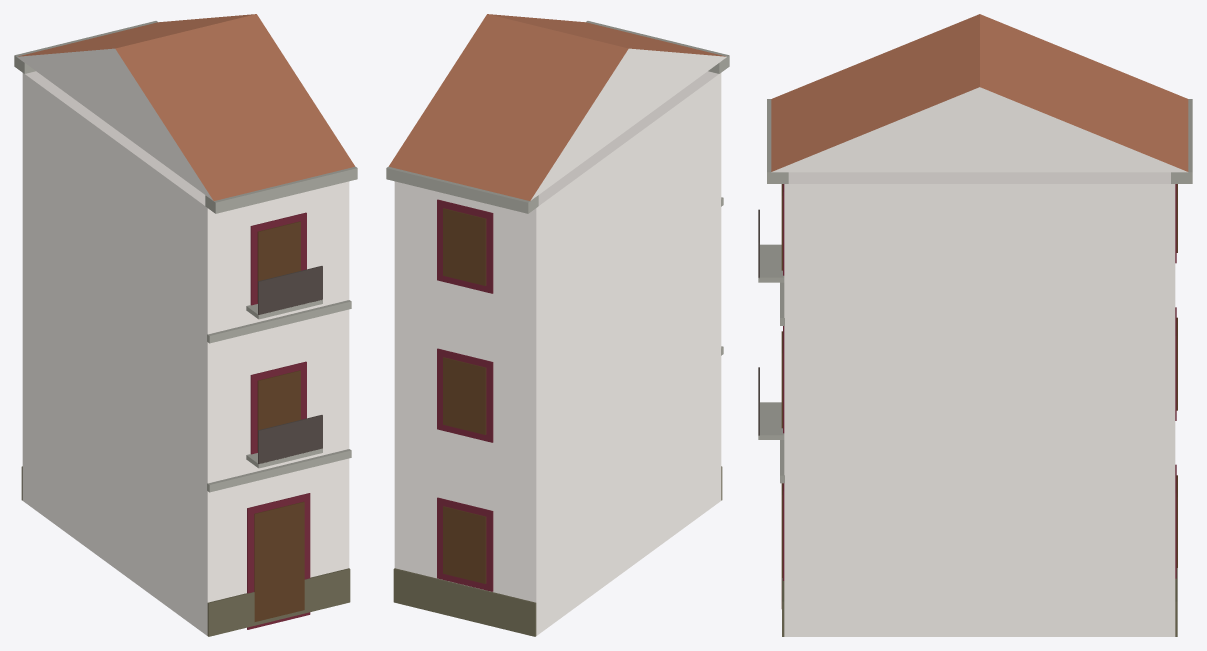
Rendered from SM_KitCuerpo_v6_LOD0.fbx.
3 views of the same model, side by side, from view 1: azimuth 30°, elevation 25°; view 2: azimuth 150°, elevation 25°; view 3: azimuth 270°, elevation 25° (orthographic). The views are drawn at different scales.
Visible parts, largest first — view 1: SM_bloques.kit_cuerpo_v6_LOD0; view 2: SM_bloques.kit_cuerpo_v6_LOD0; view 3: SM_bloques.kit_cuerpo_v6_LOD0.
Boxes of the visible parts, x1,y1,x2,y2 form: SM_bloques.kit_cuerpo_v6_LOD0: [14, 14, 357, 636]; SM_bloques.kit_cuerpo_v6_LOD0: [386, 14, 729, 636]; SM_bloques.kit_cuerpo_v6_LOD0: [758, 14, 1192, 636].
Size of the model in its own units: 3.99 by 14.04 by 10.
